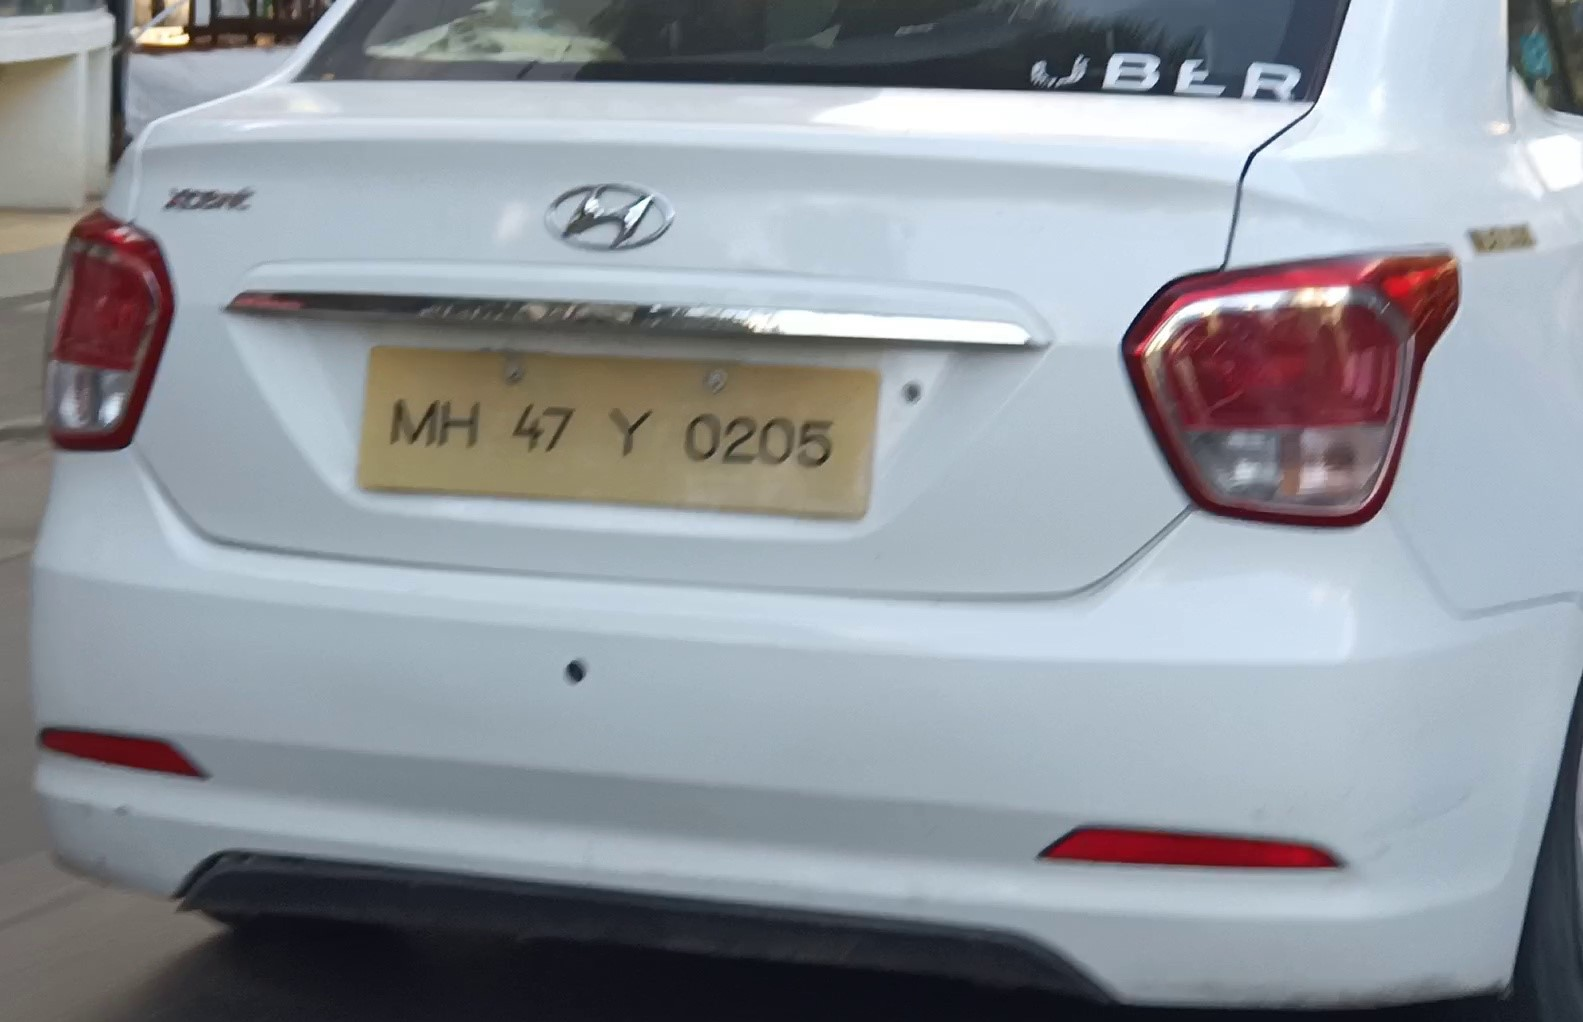MH47Y0205: (359, 346, 881, 521)
